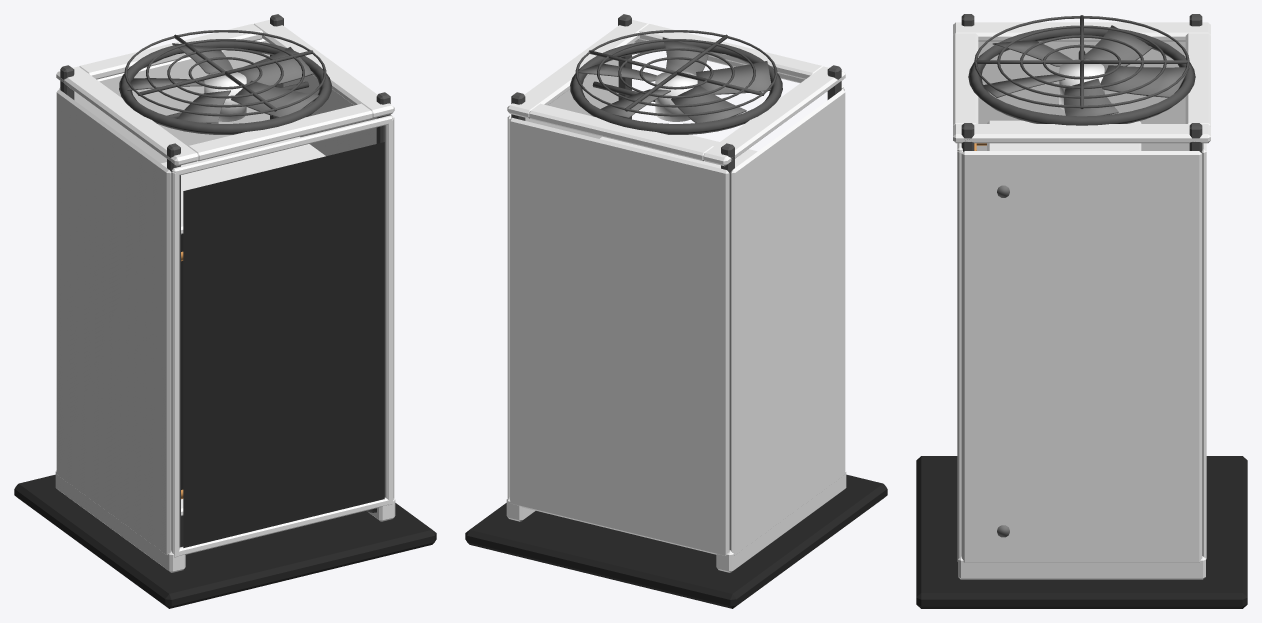
File: cooling.glb
3 views of the same model, side by side, from view 1: azimuth 30°, elevation 25°; view 2: azimuth 150°, elevation 25°; view 3: azimuth 270°, elevation 25° (orthographic). The views are drawn at different scales.
Parts seen in each view (by area): view 1: GN_COOLER_PANEL_Grille, GN_COOLER_FRAME_Graphite, GN_COOLER_FRAME_Platform, GN_COOLER_PANEL_Graphite, GN_SPECIMEN_FAN_ROTOR, GN_COOLER_GUARD_Steel, GN_COOLER_FAN_Steel, GN_COOLER_COIL_Graphite, GN_COOLER_FRAME_Steel, GN_COOLER_FAN_Graphite, GN_COOLER_COIL_Steel; view 2: GN_COOLER_FRAME_Graphite, GN_COOLER_FRAME_Platform, GN_SPECIMEN_FAN_ROTOR, GN_COOLER_GUARD_Steel, GN_COOLER_FAN_Steel, GN_COOLER_PANEL_Graphite, GN_COOLER_FRAME_Steel, GN_COOLER_FAN_Graphite, GN_COOLER_COIL_Graphite; view 3: GN_COOLER_PANEL_Graphite, GN_COOLER_FRAME_Graphite, GN_COOLER_FRAME_Platform, GN_SPECIMEN_FAN_ROTOR, GN_COOLER_GUARD_Steel, GN_COOLER_FAN_Steel, GN_COOLER_COIL_Graphite, GN_COOLER_FRAME_Steel, GN_COOLER_FAN_Graphite.
Part boxes in pixels (box(x1,y1,x2,y2)): GN_COOLER_PANEL_Grille: box(183, 142, 384, 547); GN_COOLER_FRAME_Graphite: box(55, 20, 395, 572); GN_COOLER_FRAME_Platform: box(14, 474, 436, 608); GN_COOLER_PANEL_Graphite: box(171, 75, 394, 557); GN_SPECIMEN_FAN_ROTOR: box(127, 43, 318, 123); GN_COOLER_GUARD_Steel: box(124, 30, 326, 116); GN_COOLER_FAN_Steel: box(119, 40, 331, 134); GN_COOLER_COIL_Graphite: box(161, 136, 325, 515); GN_COOLER_FRAME_Steel: box(60, 14, 390, 547); GN_COOLER_FAN_Graphite: box(204, 70, 246, 121); GN_COOLER_COIL_Steel: box(181, 234, 183, 489); GN_COOLER_FRAME_Graphite: box(506, 20, 846, 572); GN_COOLER_FRAME_Platform: box(465, 474, 887, 608); GN_SPECIMEN_FAN_ROTOR: box(578, 37, 771, 122); GN_COOLER_GUARD_Steel: box(575, 30, 777, 116); GN_COOLER_FAN_Steel: box(570, 40, 782, 134); GN_COOLER_PANEL_Graphite: box(507, 38, 844, 498); GN_COOLER_FRAME_Steel: box(511, 14, 841, 550); GN_COOLER_FAN_Graphite: box(655, 70, 697, 121); GN_COOLER_COIL_Graphite: box(600, 134, 757, 168); GN_COOLER_PANEL_Graphite: box(957, 143, 1202, 562); GN_COOLER_FRAME_Graphite: box(953, 22, 1210, 579); GN_COOLER_FRAME_Platform: box(916, 456, 1247, 608); GN_SPECIMEN_FAN_ROTOR: box(983, 25, 1189, 116); GN_COOLER_GUARD_Steel: box(974, 15, 1189, 108); GN_COOLER_FAN_Steel: box(968, 27, 1195, 125); GN_COOLER_COIL_Graphite: box(987, 120, 1141, 150); GN_COOLER_FRAME_Steel: box(961, 14, 1202, 152); GN_COOLER_FAN_Graphite: box(1059, 59, 1104, 110).
Size of the model in its own units: 1.32 by 2.09 by 1.31.
7 materials, 7 textured.
